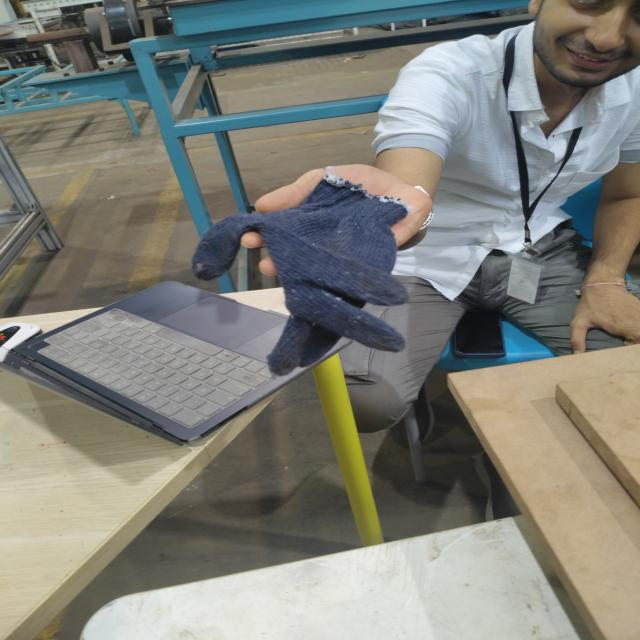Gloves-Detection: (190, 169, 414, 367)
